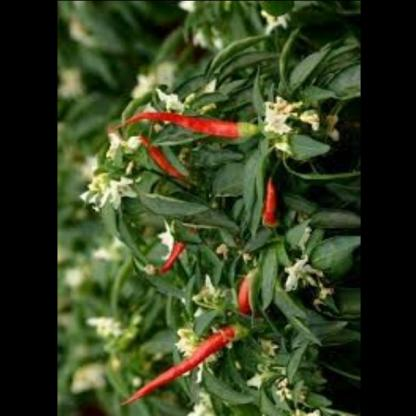hot pepper: (119, 321, 240, 408), (115, 106, 238, 142), (134, 144, 192, 191), (152, 227, 193, 278), (254, 176, 284, 228), (226, 270, 254, 324)
